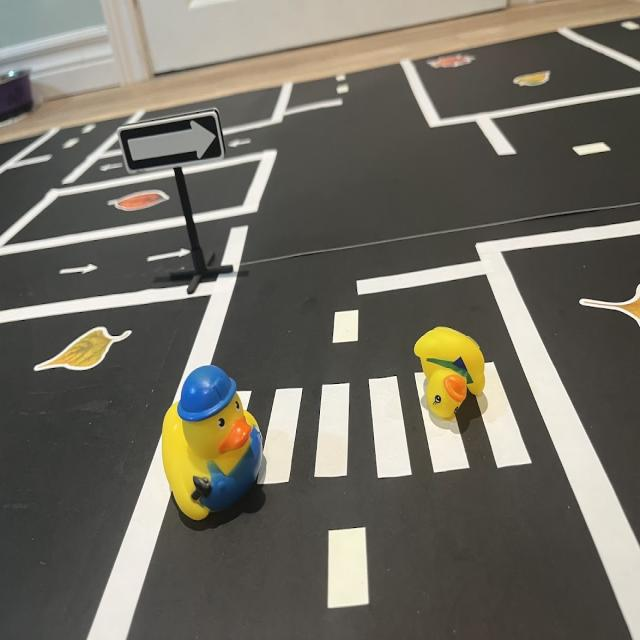duck_regular: (417, 324, 489, 426)
duck_specialty: (159, 365, 265, 522)
road_crosswalk: (237, 360, 541, 492)
road_oneway: (228, 128, 260, 156), (54, 264, 105, 281), (147, 246, 194, 264), (98, 162, 128, 177)
sign_oneway_right: (121, 105, 231, 176)
